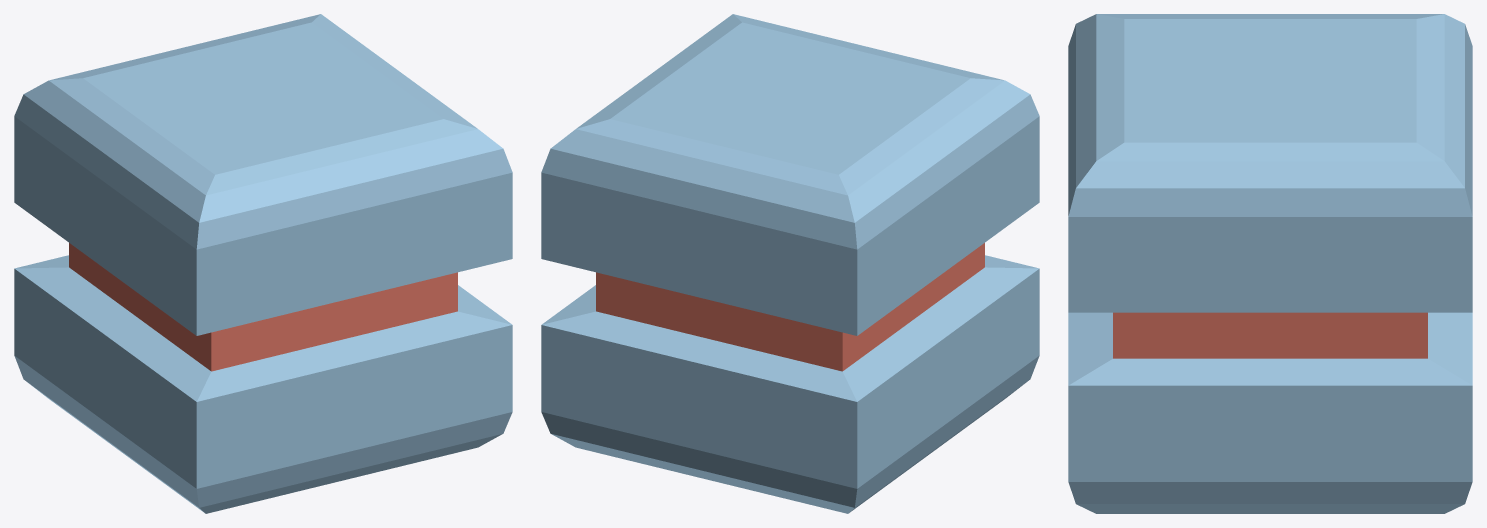
File: ShieldPickUp.fbx
3 views of the same model, side by side, from view 1: azimuth 30°, elevation 25°; view 2: azimuth 150°, elevation 25°; view 3: azimuth 270°, elevation 25° (orthographic). The views are drawn at different scales.
Visible parts, largest first — view 1: Cube; view 2: Cube; view 3: Cube.
Part boxes in pixels (x1,y1,x2,y2): Cube: (14,14,512,513); Cube: (541,14,1039,513); Cube: (1068,14,1472,513).
Size of the model in its own units: 200 by 200 by 200.
